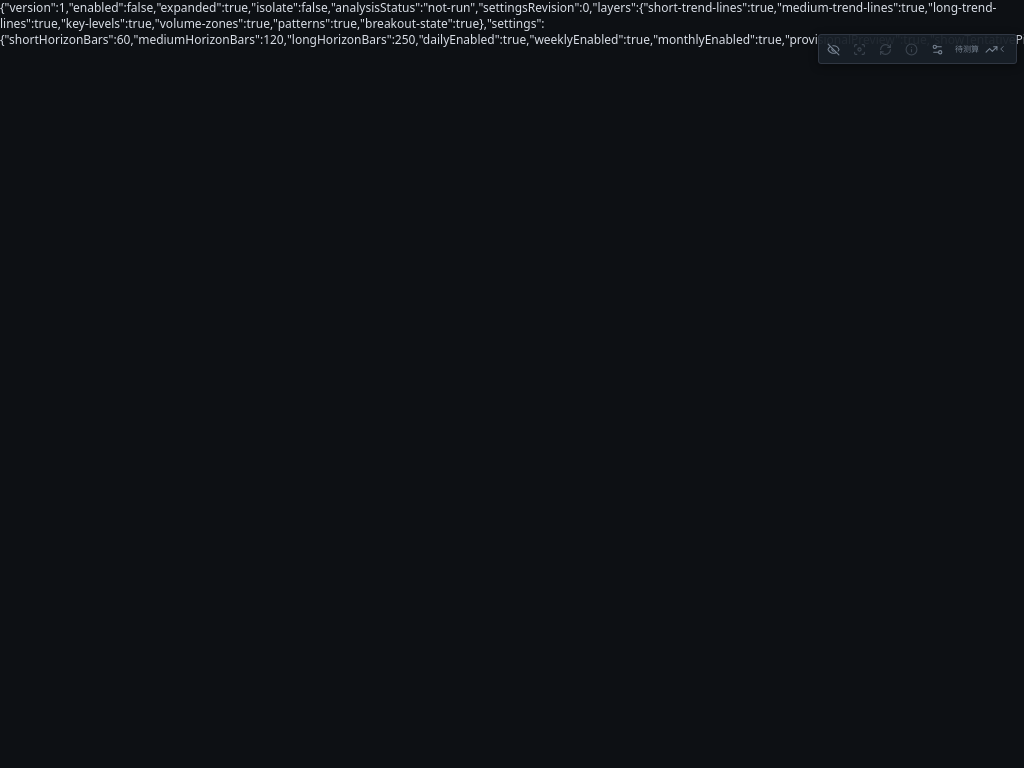
Test: TradingSystemControls › cancels drafts and restores defaults before saving
Click the button named "趋势交易体系设置": (937, 49) [925, 37, 949, 61]
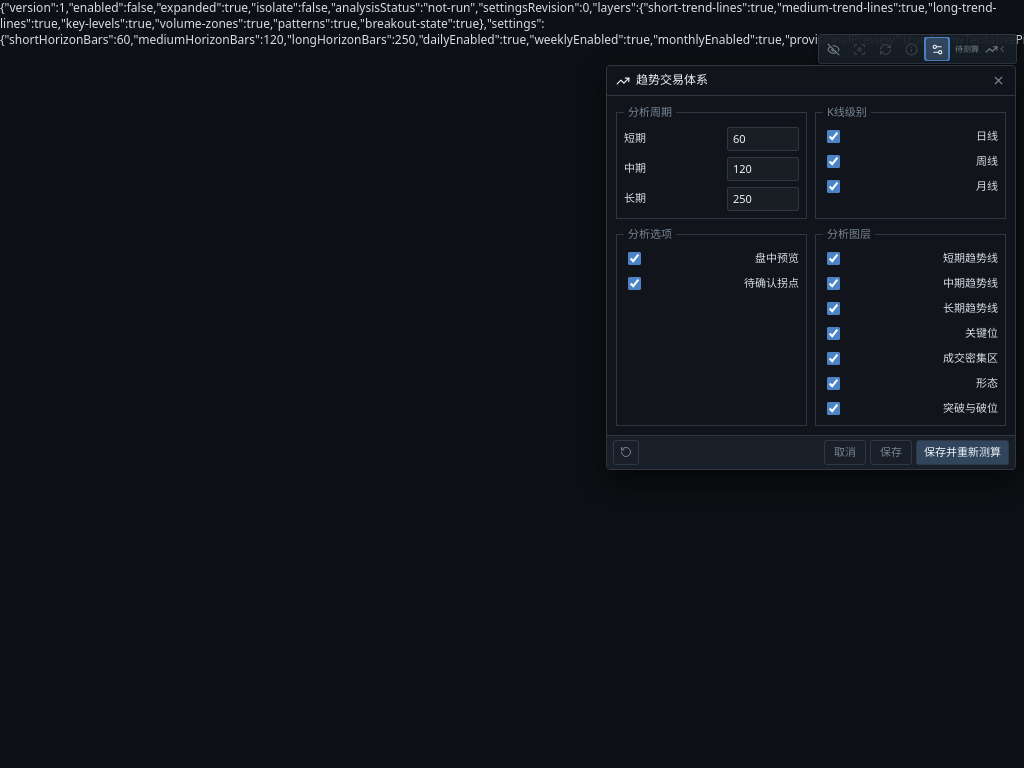
Replace the text in the number field named "短期交易日" with "90": (763, 139) [727, 127, 799, 151]
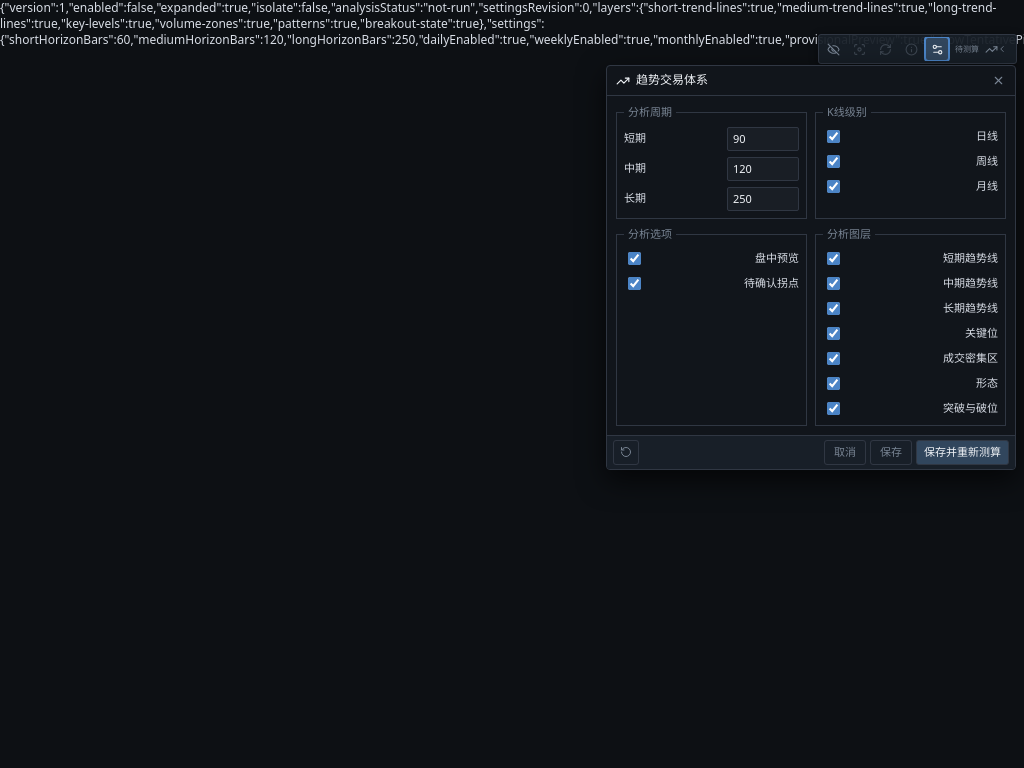
Click the button "取消": (845, 452) [824, 440, 866, 465]
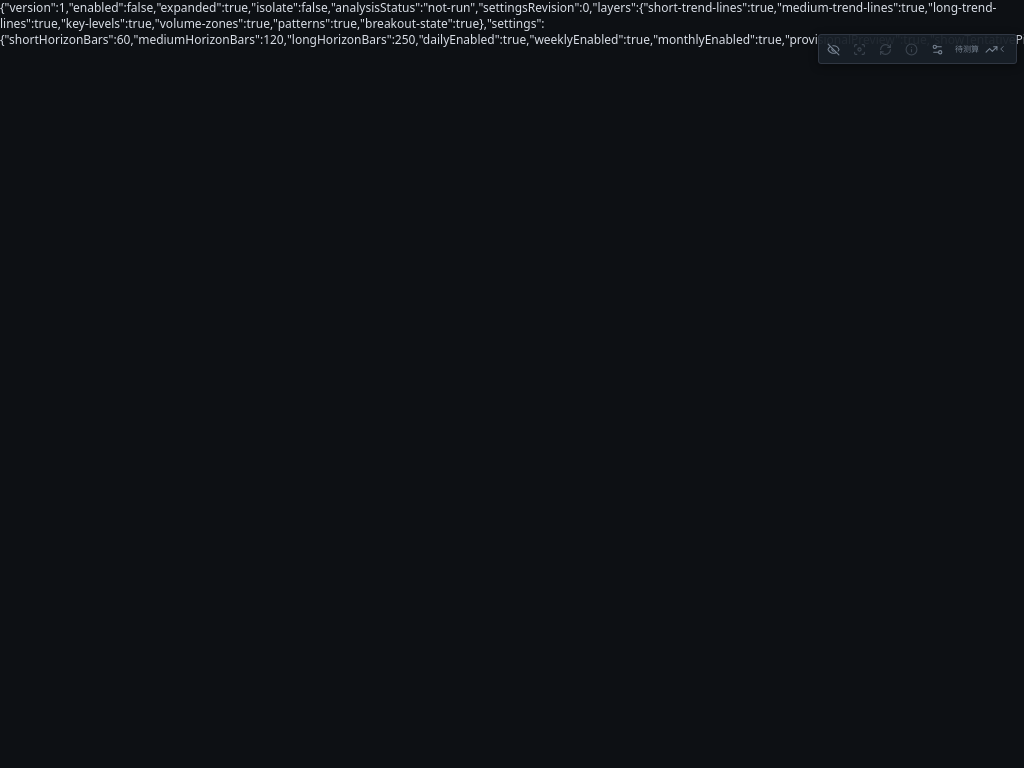
Click the button named "趋势交易体系设置": (937, 49) [925, 37, 949, 61]
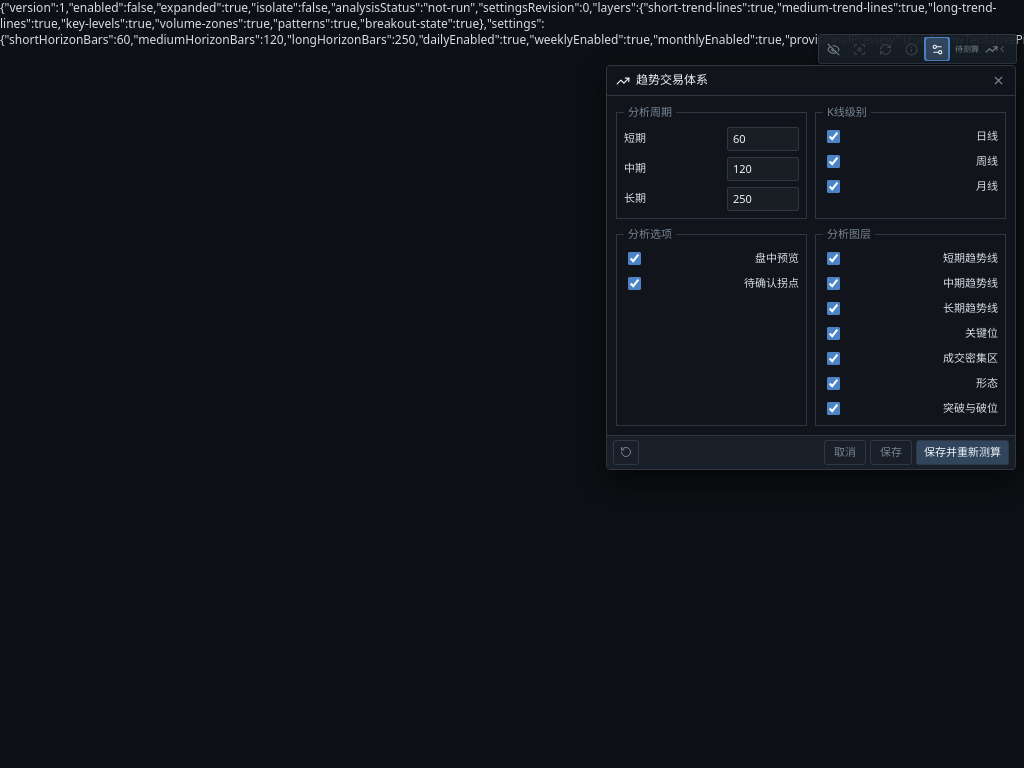
Expected: the number field named "短期交易日" holds "60"
Replace the text in the number field named "短期交易日" with "90": (763, 139) [727, 127, 799, 151]
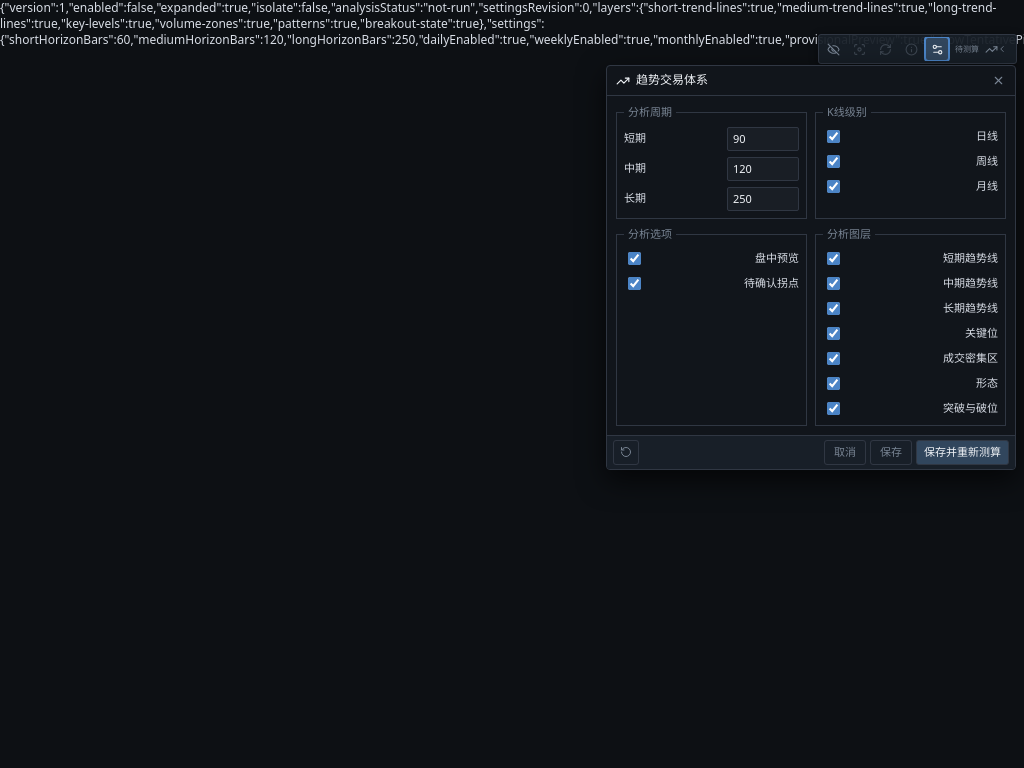
Click the button named "恢复趋势体系默认设置": (626, 452) [613, 440, 639, 465]
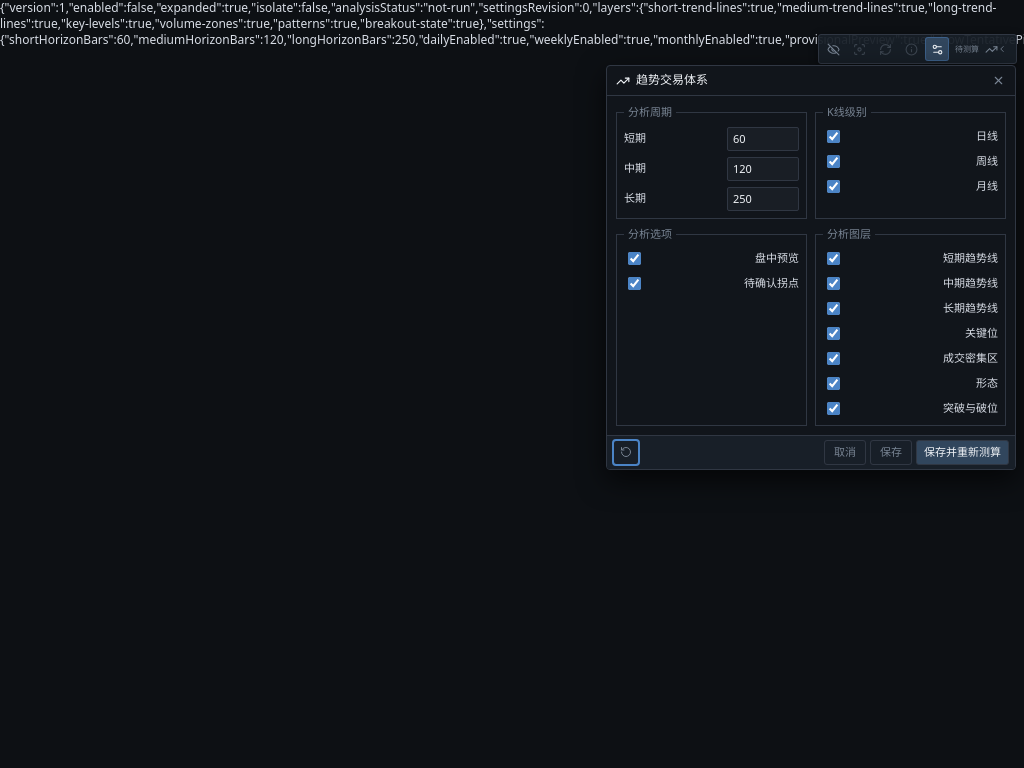
Expected: the number field named "短期交易日" holds "60", [727, 127, 799, 151]
